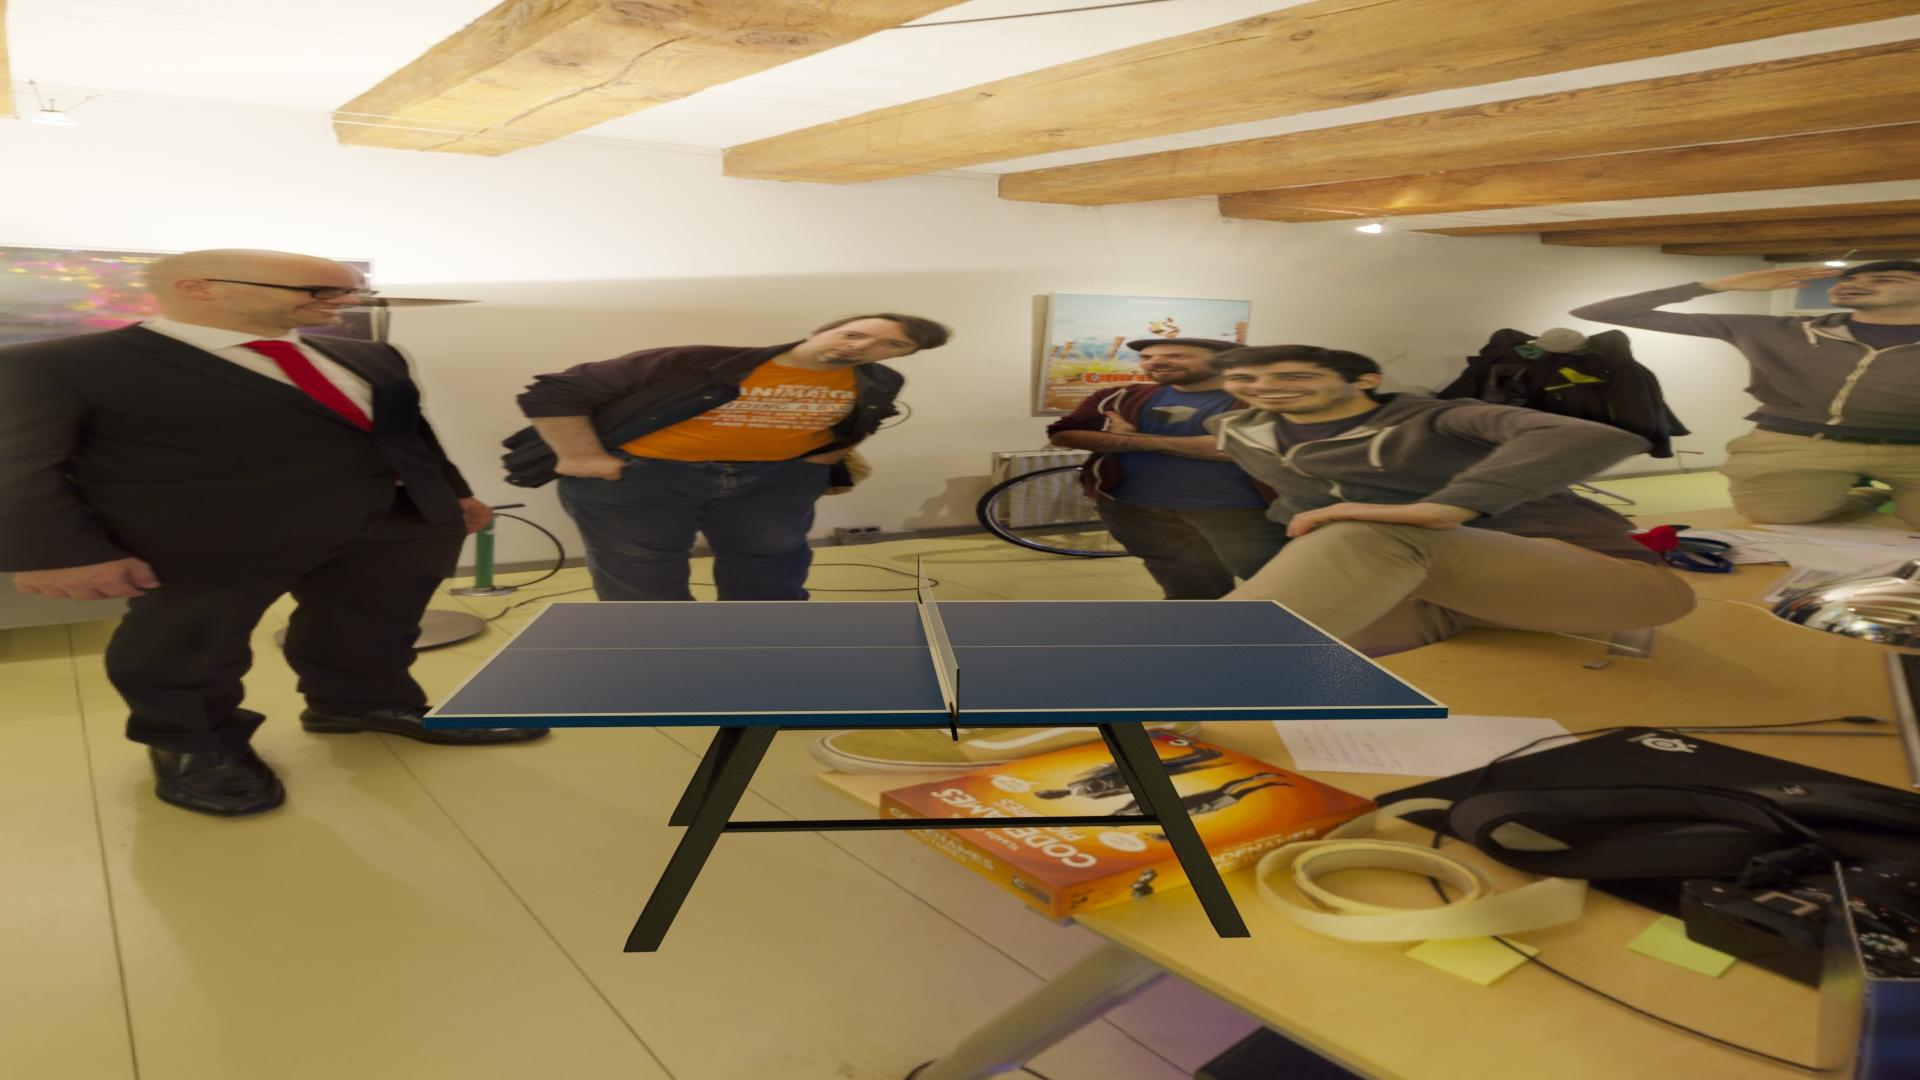table: (434, 601, 1439, 715)
